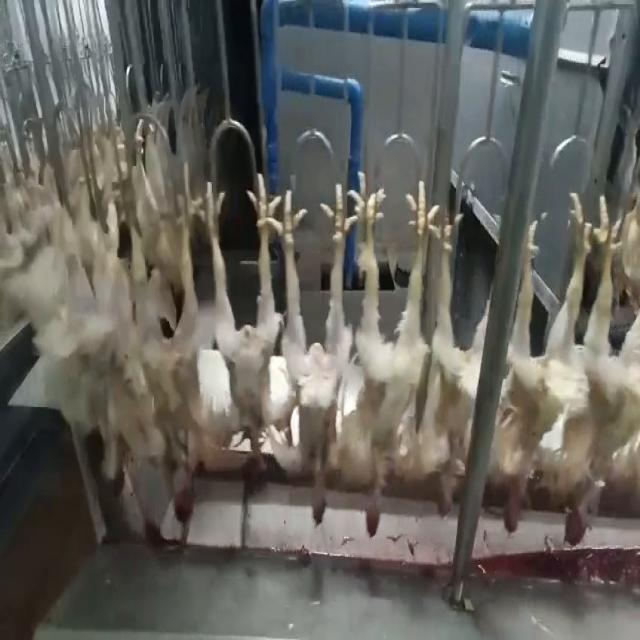chicken: (336, 177, 442, 538), (496, 188, 594, 538), (557, 186, 639, 545), (122, 160, 198, 527), (272, 182, 347, 526), (417, 195, 495, 517), (197, 176, 278, 483)
